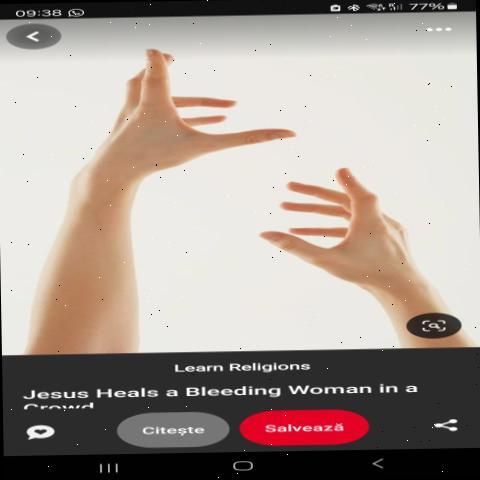Hands: (86, 32, 302, 206), (250, 146, 445, 313)
